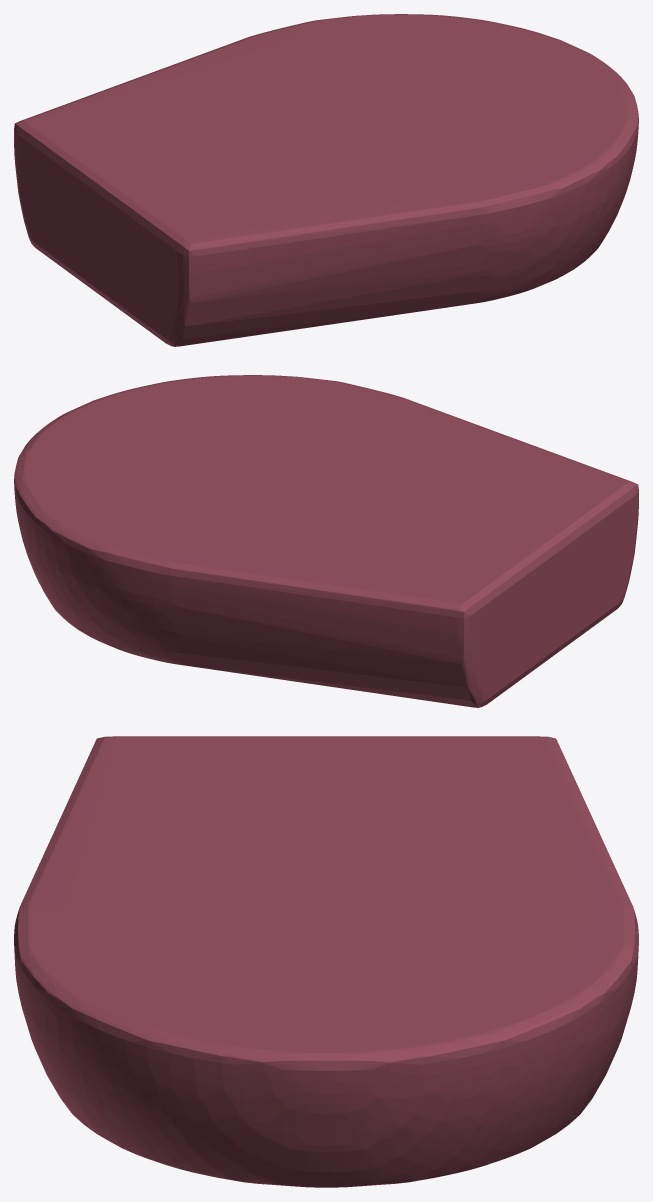
Rendered from right_elbow_link_part_13.obj.
The picture shows the model from 3 angles, top to bottom: view 1: azimuth 30°, elevation 25°; view 2: azimuth 150°, elevation 25°; view 3: azimuth 270°, elevation 25°; orthographic projection. The views are drawn at different scales.
Size of the model in its own units: 0.0905 by 0.0196 by 0.0731.
